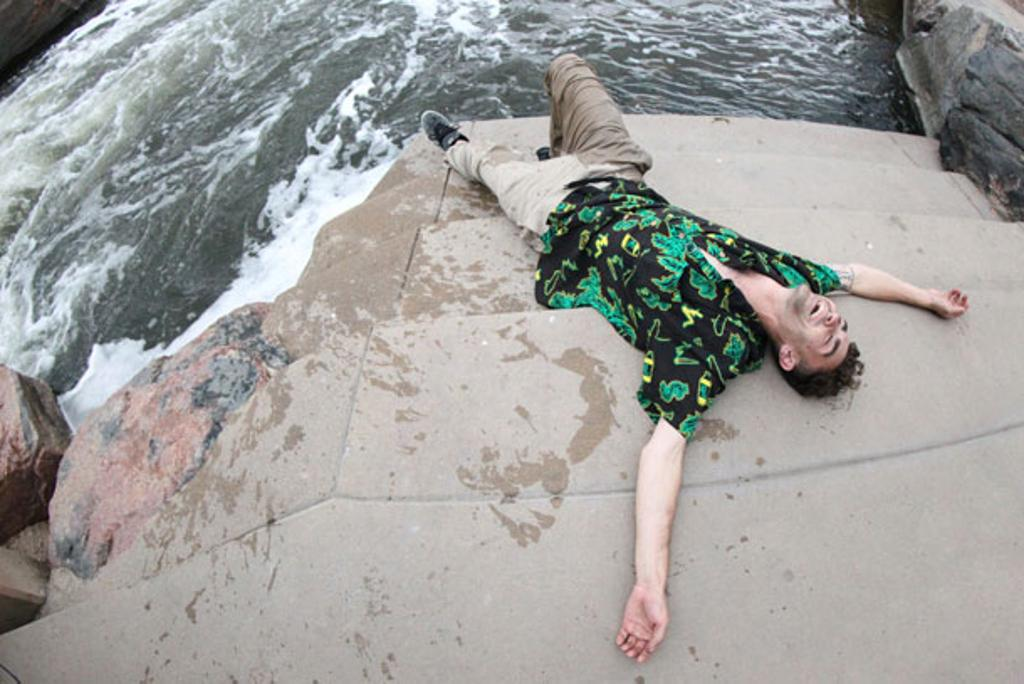face: (783, 281, 853, 371)
